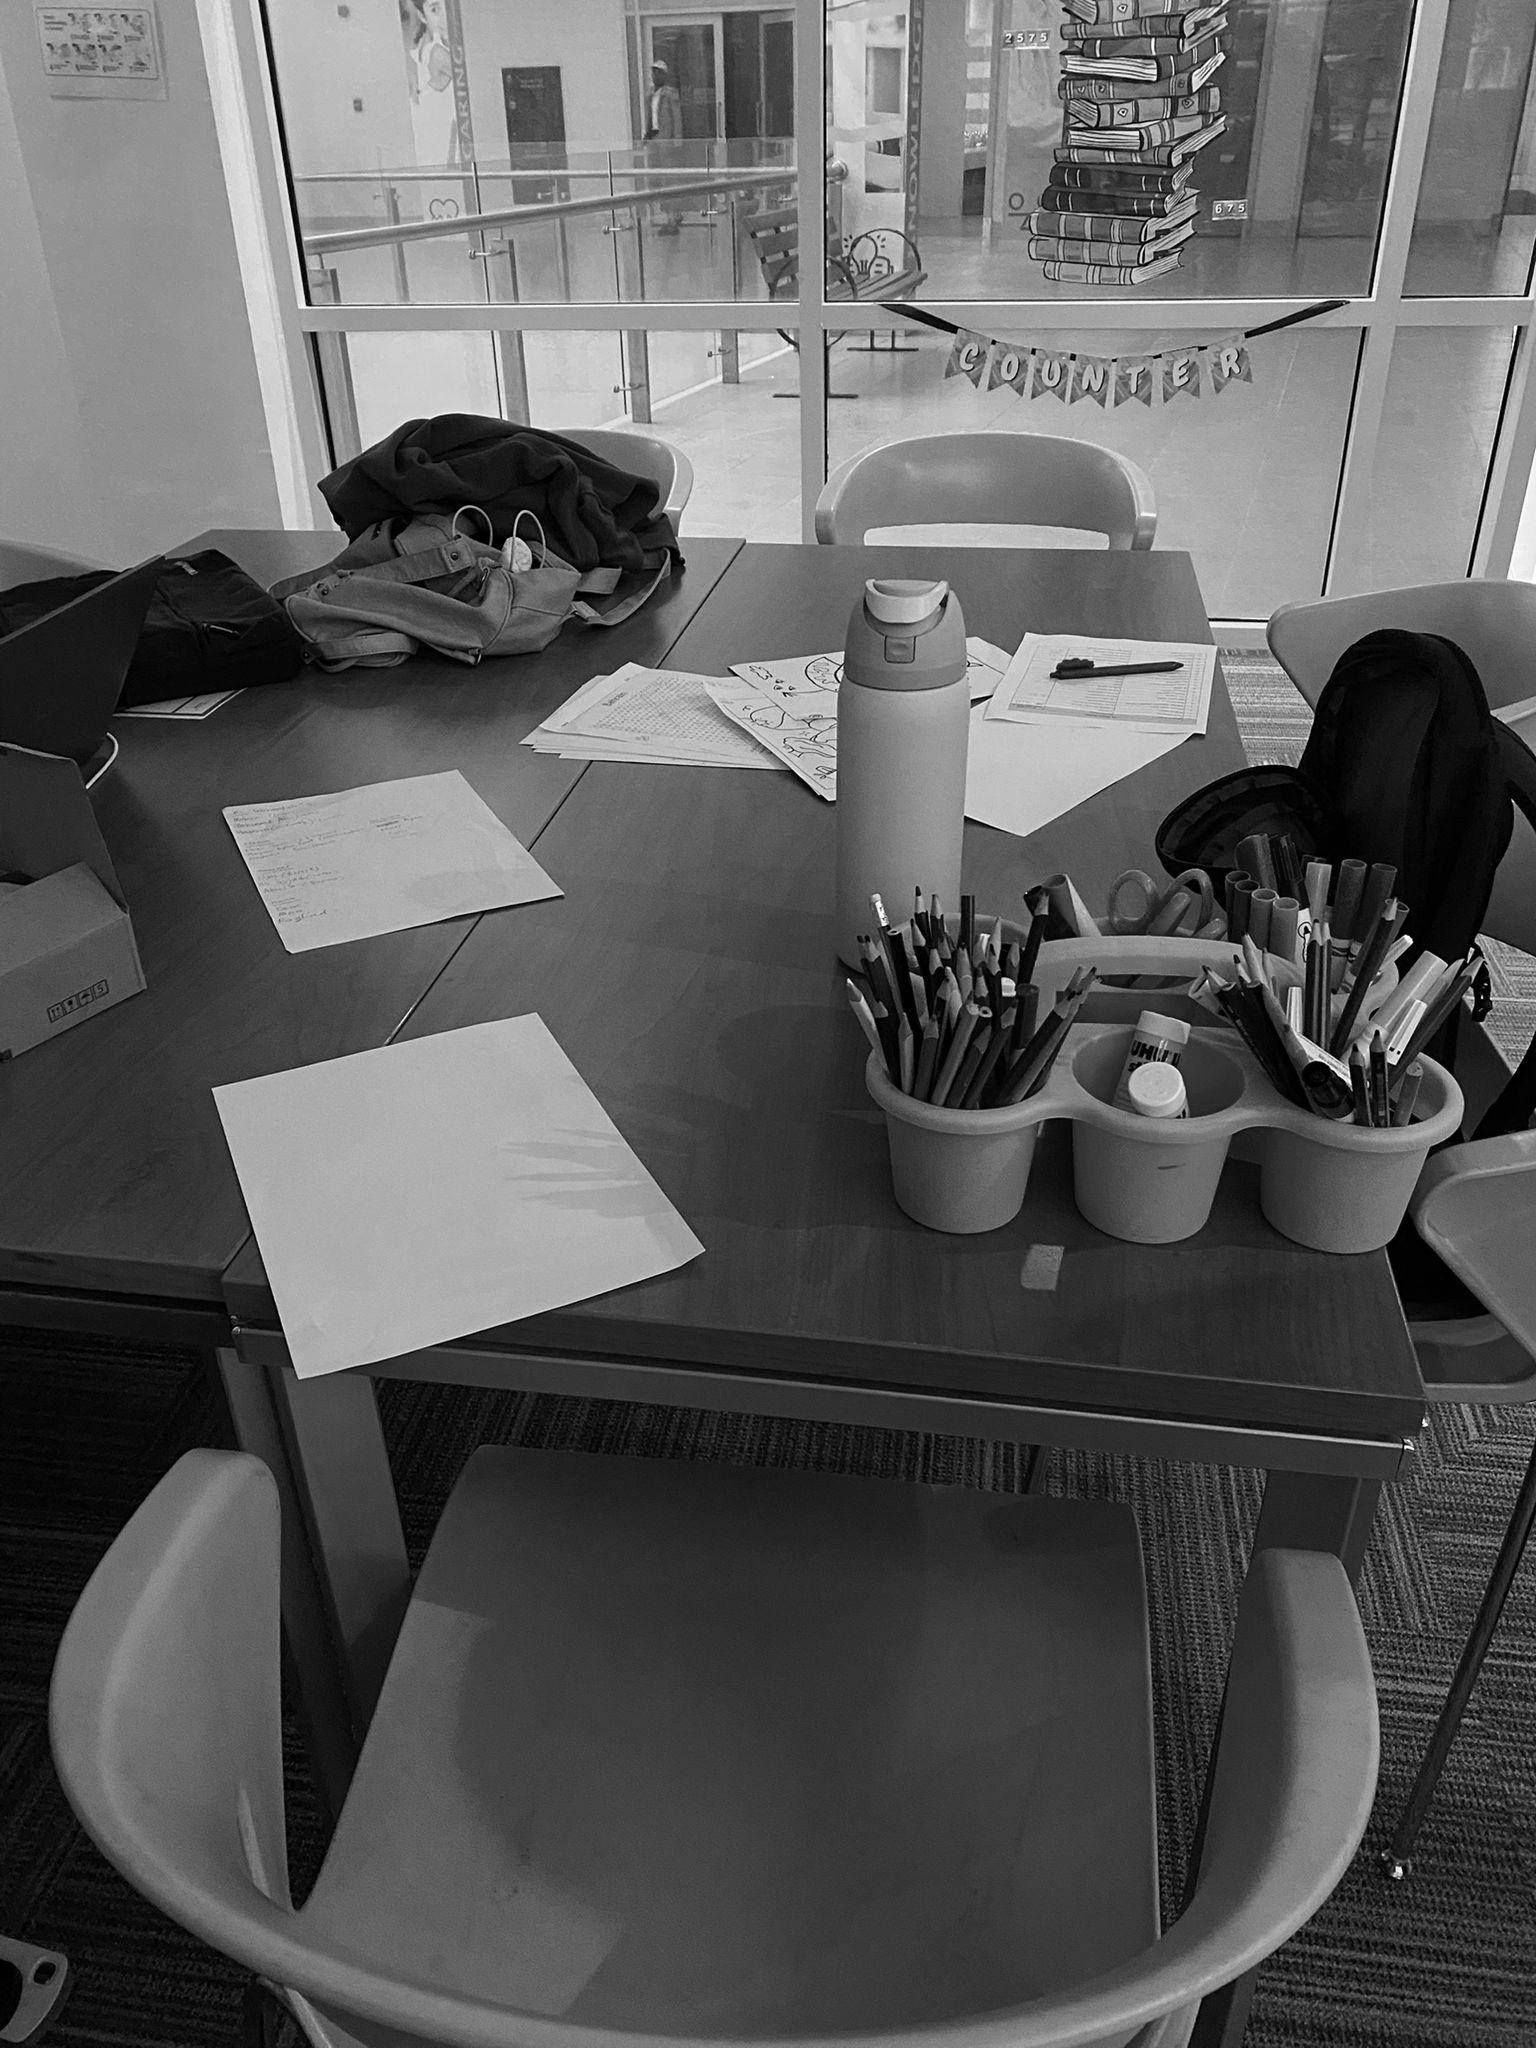Table: (0, 540, 1425, 1769), (173, 531, 340, 584)
